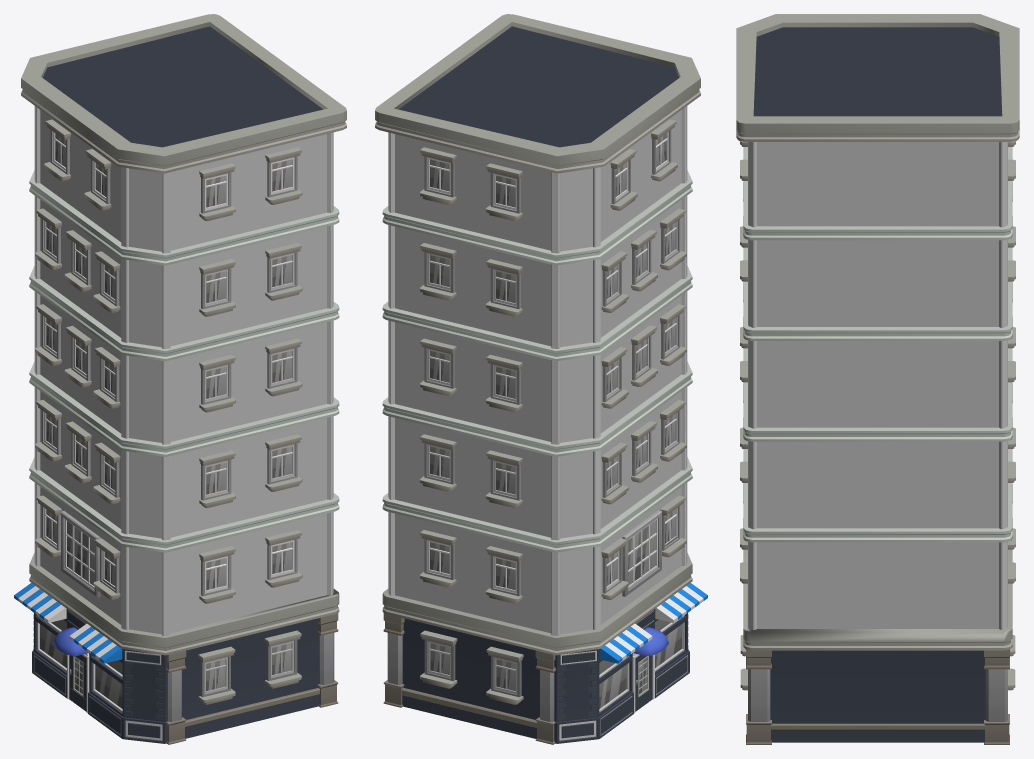
The model's file is Building_3_4_G.fbx.
3 renders of one model, left to right at view 1: azimuth 30°, elevation 25°; view 2: azimuth 150°, elevation 25°; view 3: azimuth 270°, elevation 25°, orthographic. The views are drawn at different scales.
Visible parts, largest first — view 1: Building 3_4_G; view 2: Building 3_4_G; view 3: Building 3_4_G.
Boxes of the visible parts, x1,y1,x2,y2 form: Building 3_4_G: [14, 14, 346, 744]; Building 3_4_G: [375, 14, 707, 744]; Building 3_4_G: [736, 14, 1019, 744].
Size of the model in its own units: 808 by 2041 by 837.
